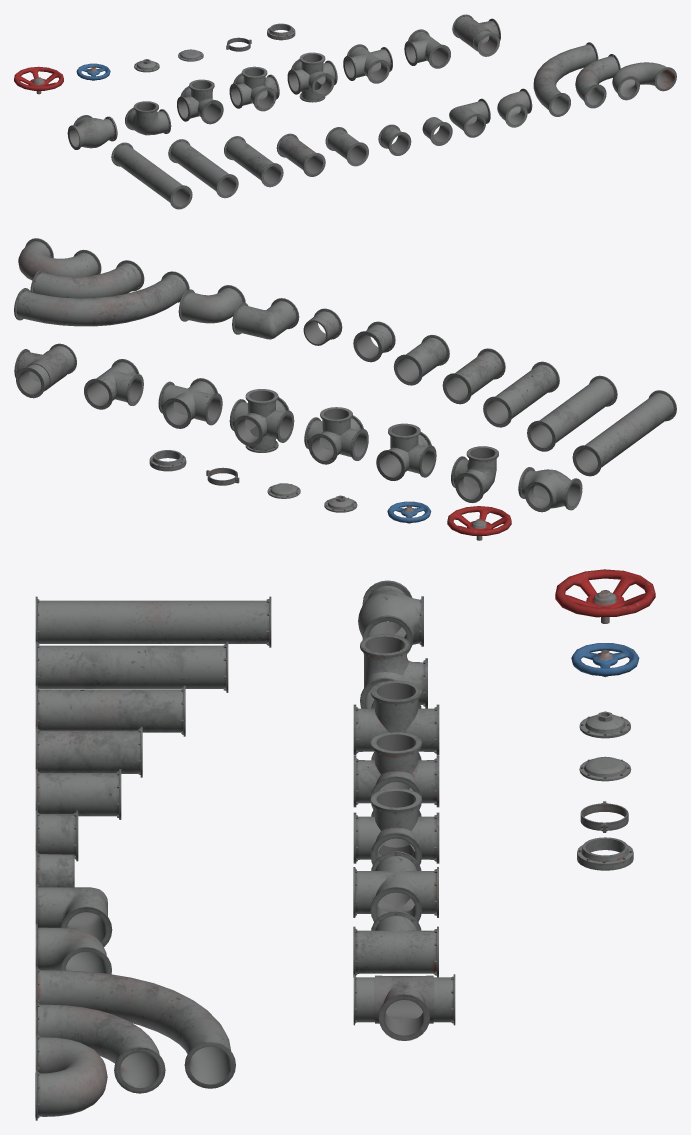
The model's file is large_modular_pipes_metal.glb.
3 views of the same model, one above another, from view 1: azimuth 30°, elevation 25°; view 2: azimuth 150°, elevation 25°; view 3: azimuth 270°, elevation 25° (orthographic). The views are drawn at different scales.
Parts seen in each view (by area): view 1: Pipe_RoundCorner_Longer, Pipe_Straight6, Pipe_Fitting_6Way, Pipe_Straight5, Pipe_Fitting_5Way, Pipe_UBend, Pipe_Fitting_4Way.001, Pipe_Fitting_4Way, Pipe_Straight4, Pipe_RoundCorner_Long, Pipe_Fitting_3Way_TConnected, Pipe_Fitting_3Way_Round (+11 smaller); view 2: Pipe_RoundCorner_Longer, Pipe_Straight6, Pipe_Fitting_6Way, Pipe_Straight5, Pipe_Fitting_5Way, Pipe_RoundCorner_Long, Pipe_Fitting_4Way.001, Pipe_Fitting_4Way, Pipe_Straight4, Pipe_Fitting_3Way_TConnected, Pipe_Fitting_3Way_Round, Pipe_UBend (+11 smaller); view 3: Pipe_Straight6, Pipe_RoundCorner_Longer, Pipe_Straight5, Pipe_Straight4, Pipe_RoundCorner_Long, Pipe_Fitting_3Way_TConnected, Pipe_Fitting_6Way, Pipe_UBend, Pipe_Straight3, Pipe_Fitting_4Way, Pipe_Fitting_3Way_T, Pipe_Fitting_5Way (+14 smaller).
Part boxes in pixels (x1,y1,x2,y2): Pipe_RoundCorner_Longer: (533, 42, 598, 116); Pipe_Straight6: (111, 142, 192, 209); Pipe_Fitting_6Way: (287, 52, 337, 102); Pipe_Straight5: (168, 139, 238, 198); Pipe_Fitting_5Way: (229, 66, 279, 111); Pipe_UBend: (612, 62, 676, 100); Pipe_Fitting_4Way.001: (177, 79, 223, 124); Pipe_Fitting_4Way: (343, 44, 392, 83); Pipe_Straight4: (224, 136, 283, 187); Pipe_RoundCorner_Long: (575, 54, 620, 108); Pipe_Fitting_3Way_TConnected: (452, 14, 500, 56); Pipe_Fitting_3Way_Round: (67, 115, 117, 149); Pipe_RoundCorner_Longer: (14, 271, 189, 326); Pipe_Straight6: (572, 390, 676, 476); Pipe_Fitting_6Way: (229, 389, 294, 452); Pipe_Straight5: (527, 375, 617, 451); Pipe_Fitting_5Way: (304, 407, 368, 464); Pipe_RoundCorner_Long: (30, 260, 144, 298); Pipe_Fitting_4Way.001: (376, 423, 436, 480); Pipe_Fitting_4Way: (158, 378, 222, 428); Pipe_Straight4: (483, 361, 559, 427); Pipe_Fitting_3Way_TConnected: (14, 343, 76, 398); Pipe_Fitting_3Way_Round: (518, 467, 582, 512); Pipe_UBend: (18, 238, 101, 280); Pipe_Straight6: (35, 596, 271, 647); Pipe_RoundCorner_Longer: (35, 966, 235, 1088); Pipe_Straight5: (35, 641, 228, 692); Pipe_Straight4: (35, 685, 185, 736); Pipe_RoundCorner_Long: (35, 1000, 165, 1093); Pipe_Fitting_3Way_TConnected: (353, 974, 455, 1040); Pipe_Fitting_6Way: (353, 788, 439, 864); Pipe_UBend: (35, 1033, 107, 1120); Pipe_Straight3: (35, 726, 142, 777); Pipe_Fitting_4Way: (353, 851, 438, 921); Pipe_Fitting_3Way_T: (353, 911, 438, 977); Pipe_Fitting_5Way: (353, 731, 439, 809).
Size of the model in its own units: 55.64 by 4.02 by 28.88.
Materials: 1 (1 with a texture image).
